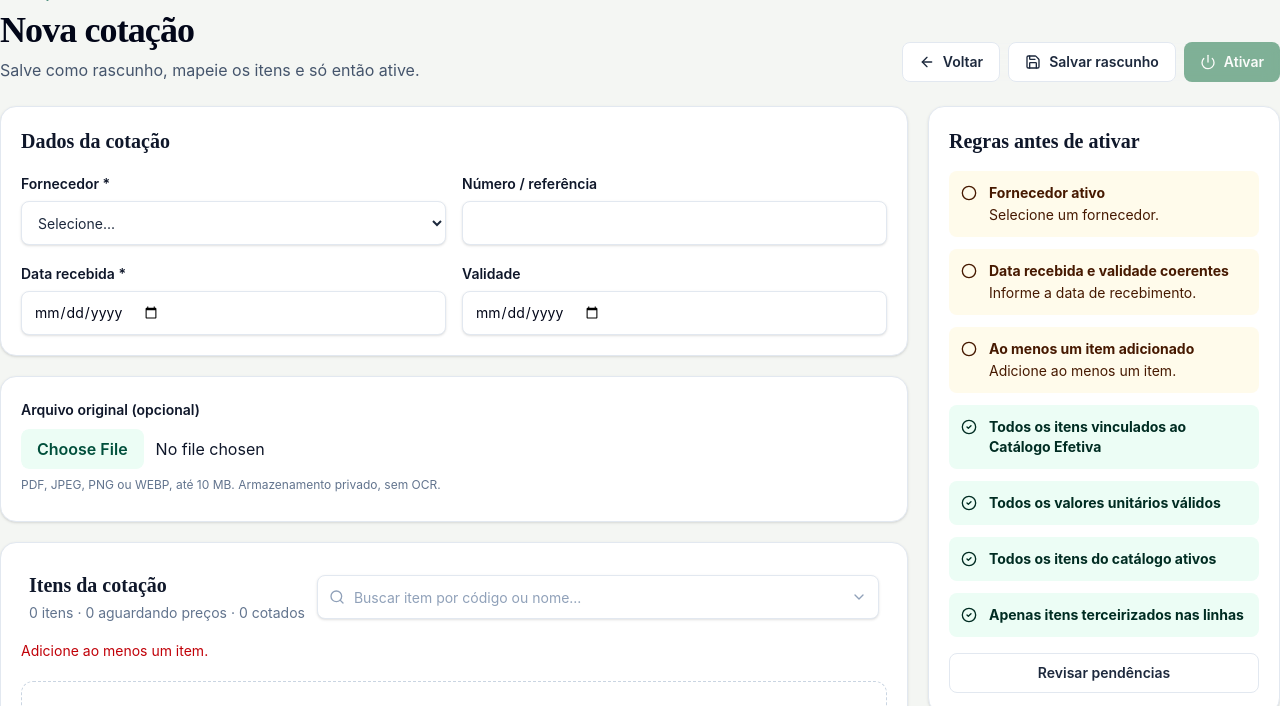
Test: QuotationEditorPage › valida fornecedor e data obrigatórios e adiciona/remove item com foco e ARIA
Click the button "Salvar rascunho" at point(1092, 62), box x1=1008 y1=42 x2=1176 y2=82
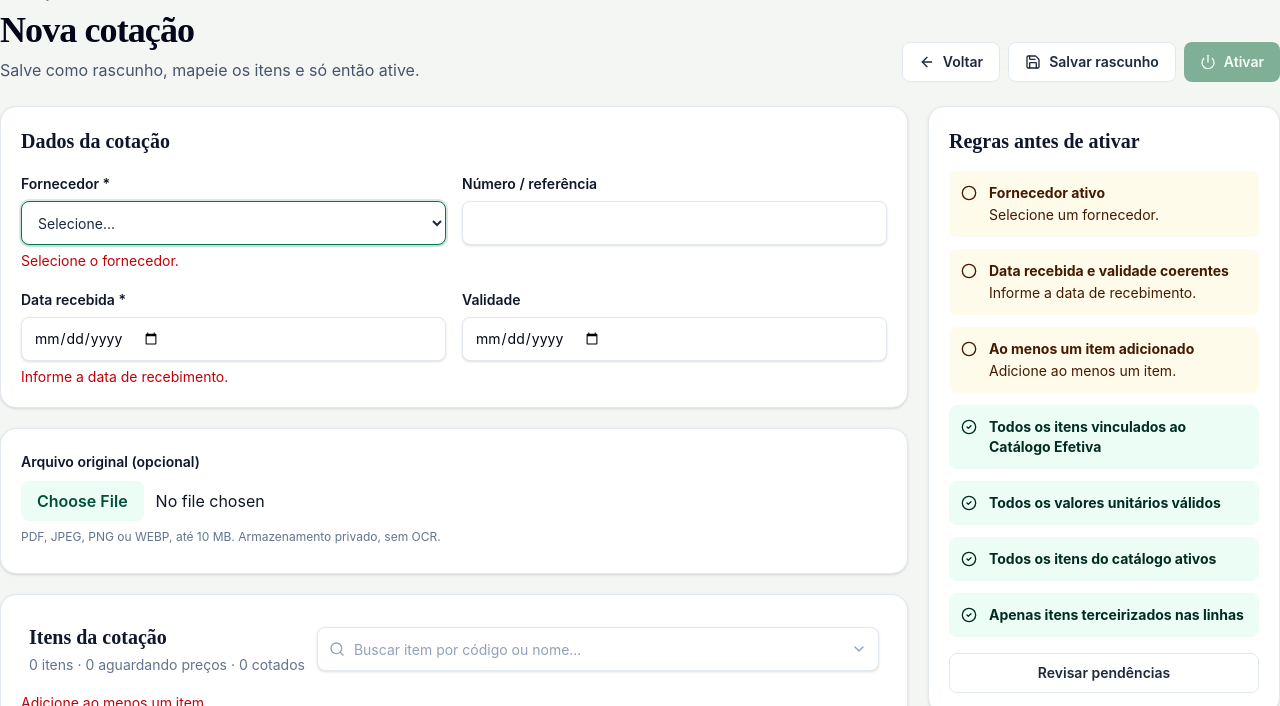
Result: the text "Selecione o fornecedor." is shown at x1=21 y1=252 x2=179 y2=269
Result: the text "Informe a data de recebimento." below "Data recebida *" is shown at x1=21 y1=368 x2=228 y2=385
Type "Hemograma" into the dropdown with placeholder "Buscar item por código ou nome..." at point(598, 649), box x1=317 y1=627 x2=879 y2=671
(page scrolled)
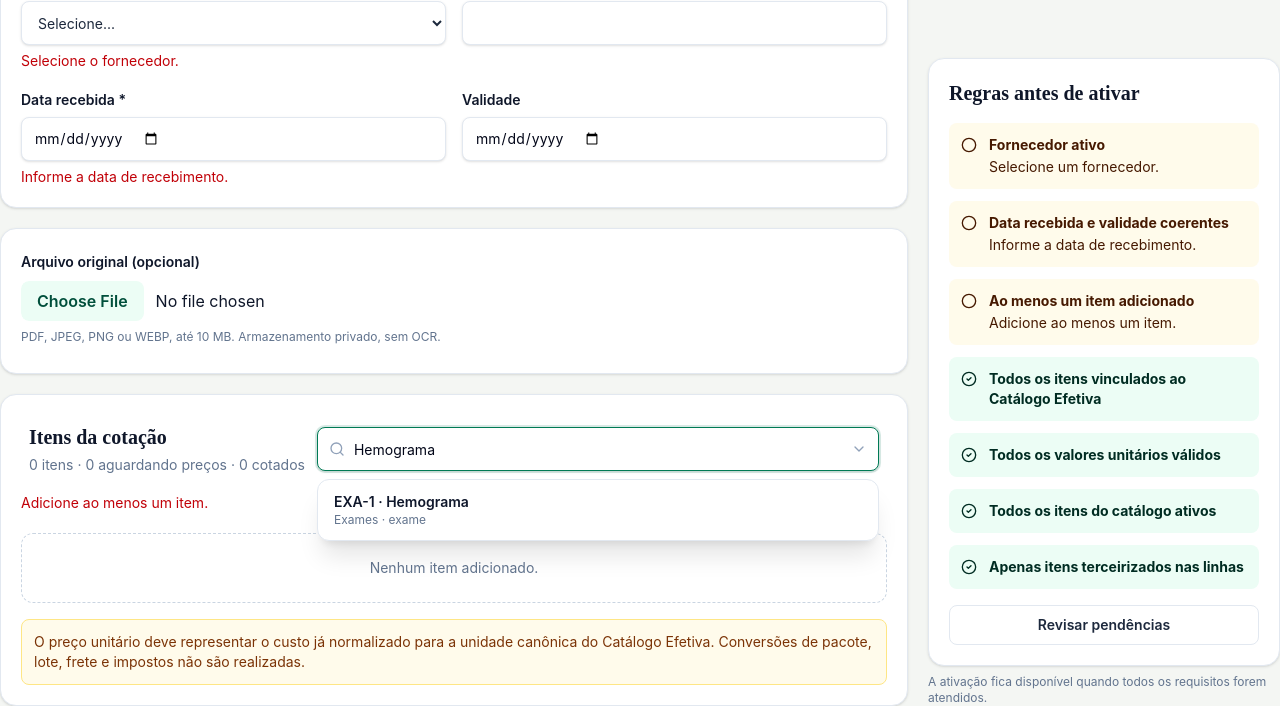
Click the option "EXA-1 · Hemograma Exames · exame" at point(401, 502), box x1=322 y1=484 x2=874 y2=536
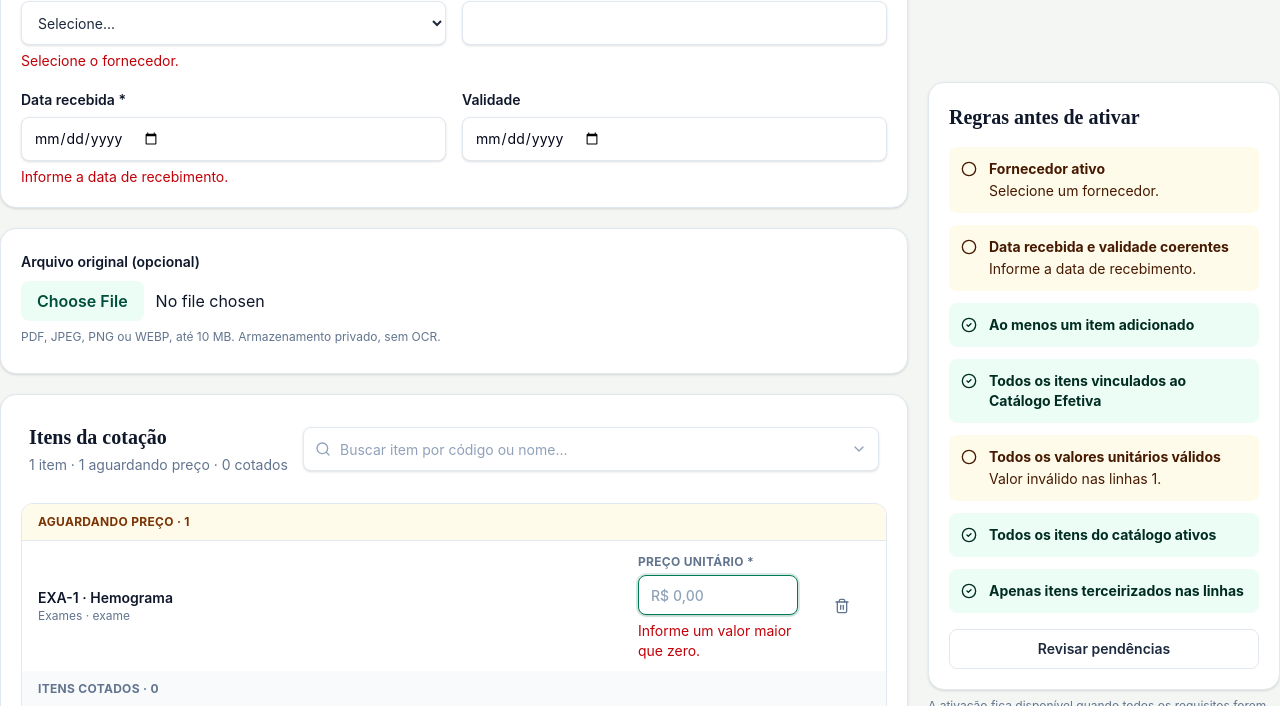
Click the button named "Remover item 1" at point(842, 606), box x1=822 y1=586 x2=862 y2=626
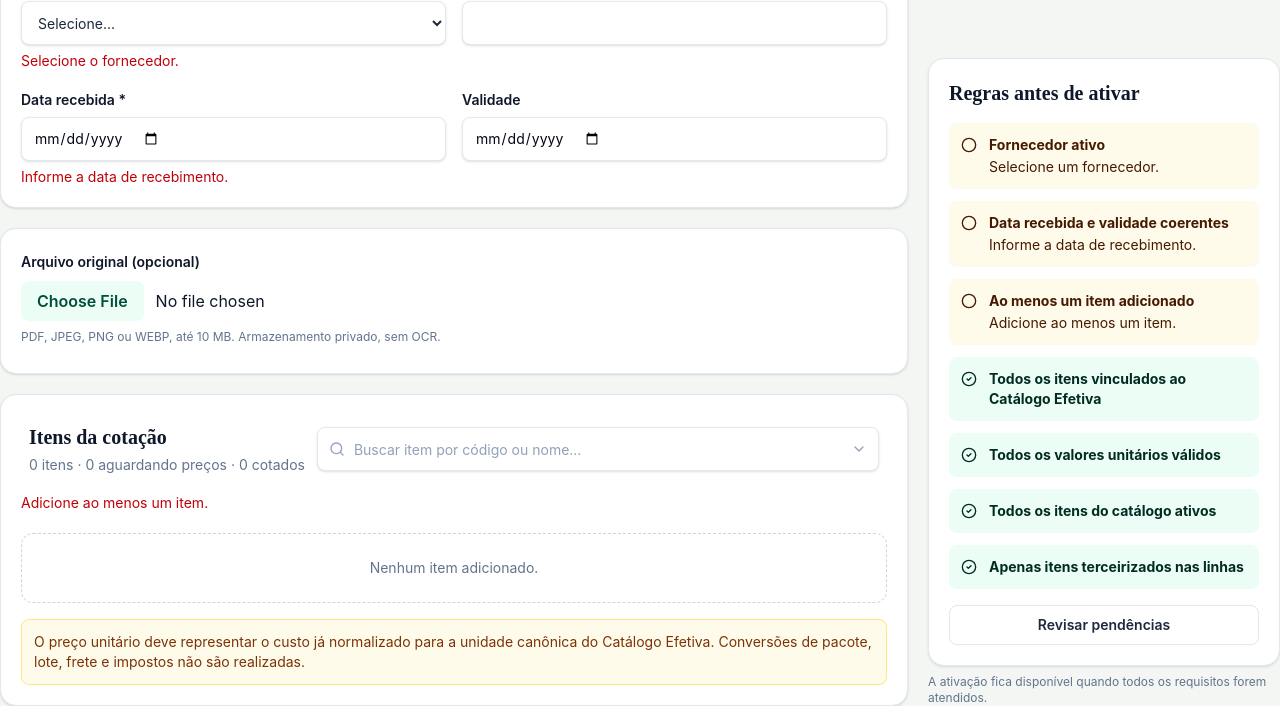
Result: the text "Nenhum item adicionado." is shown at x1=21 y1=533 x2=887 y2=603
